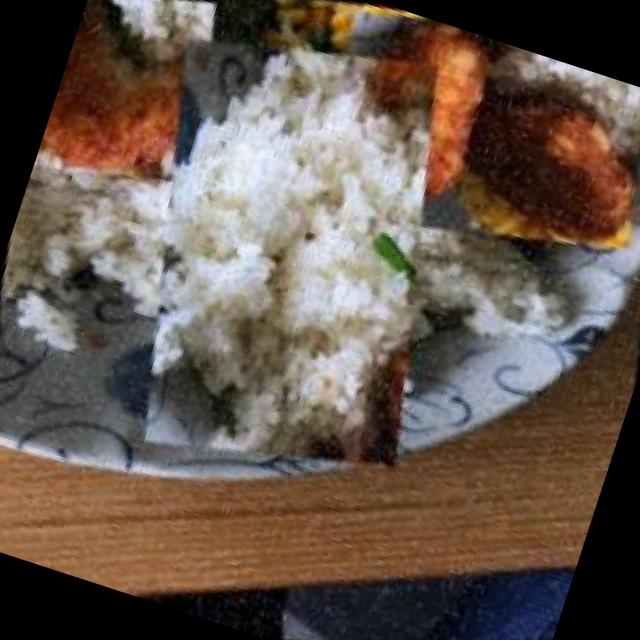rice: (39, 0, 542, 502)
triangle_hash_brown: (289, 0, 640, 308), (35, 0, 257, 213)
